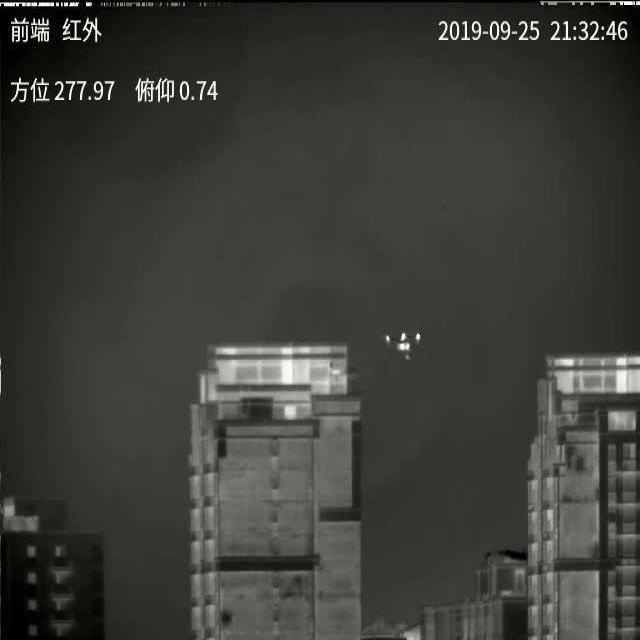drone: (385, 332, 421, 360)
